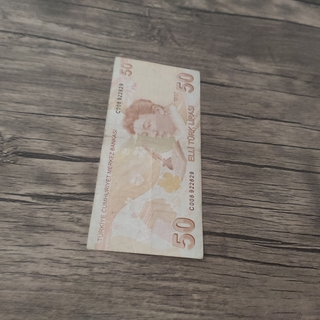50TLBack: (85, 55, 204, 259)
